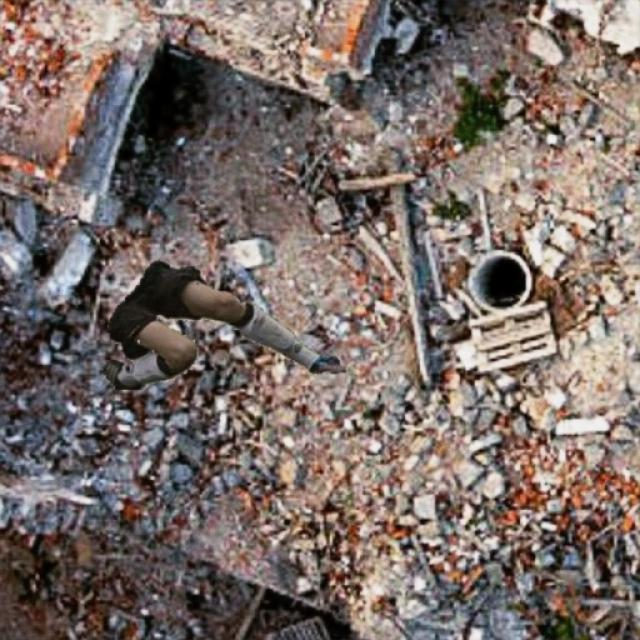Person in Rubble: (102, 260, 346, 389)
